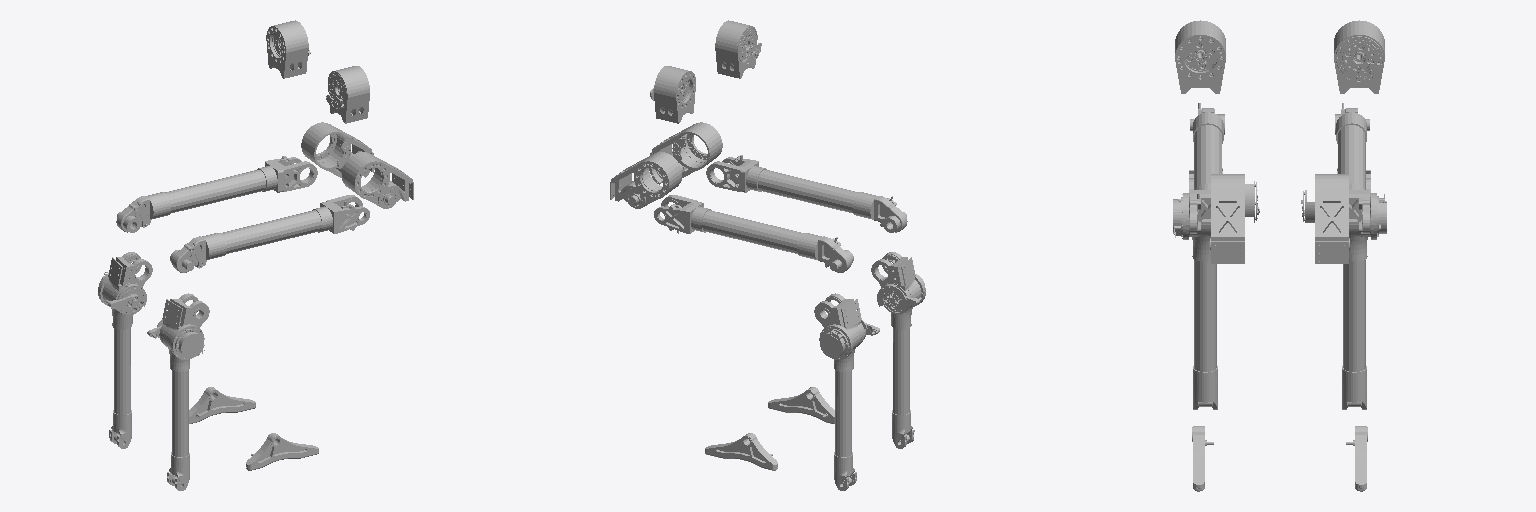
robot.urdf — cassia:
<?xml version="1.0" encoding="utf-8"?>
<!-- This URDF was automatically created by SolidWorks to URDF Exporter! Originally created by [author] ([email redacted]) 
     Commit Version: 1.5.1-0-g916b5db  Build Version: 1.5.7152.31018
     For more information, please see http://wiki.ros.org/sw_urdf_exporter -->
<robot
  name="cassia">
  <link
    name="pelvis">
    <inertial>
      <origin
        xyz="0.012573 4.0034E-05 -0.016772"
        rpy="0 0 0" />
      <mass
        value="6.8222" />
      <inertia
        ixx="0.023762"
        ixy="-2.8373E-06"
        ixz="7.9788E-06"
        iyy="0.014556"
        iyz="-6.5952E-07"
        izz="0.010864" />
    </inertial>
    <visual>
      <origin
        xyz="0 0 0"
        rpy="0 0 0" />
      <geometry>
        <mesh
          filename="package://meshes/base_link.STL" />
      </geometry>
      <material
        name="">
        <color
          rgba="0.86667 0.9098 1 1" />
      </material>
    </visual>
    <collision>
      <origin
        xyz="0 0 0"
        rpy="0 0 0" />
      <geometry>
        <mesh
          filename="package://meshes/base_link.STL" />
      </geometry>
    </collision>
  </link>
  <link
    name="vectorNav">
    <inertial>
      <origin
        xyz="0 0 0"
        rpy="0 0 0" />
      <mass
        value="0.001" />
      <inertia
        ixx="1.6667E-08"
        ixy="-1.8525E-24"
        ixz="1.301E-24"
        iyy="1.6667E-08"
        iyz="5.5145E-25"
        izz="1.6667E-08" />
    </inertial>
    <visual>
      <origin
        xyz="0 0 0"
        rpy="0 0 0" />
      <geometry>
        <mesh
          filename="package://meshes/imu.STL" />
      </geometry>
      <material
        name="">
        <color
          rgba="0.79608 0.82353 0.93725 1" />
      </material>
    </visual>
    <collision>
      <origin
        xyz="0 0 0"
        rpy="0 0 0" />
      <geometry>
        <mesh
          filename="package://meshes/imu.STL" />
      </geometry>
    </collision>
  </link>
  <joint
    name="pelvis_to_vectorNav"
    type="fixed">
    <origin
      xyz="0.03613 0 0.085"
      rpy="0 0 0" />
    <parent
      link="pelvis" />
    <child
      link="vectorNav" />
    <axis
      xyz="0 0 0" />
  </joint>
  <link
    name="r_hip_roll">
    <inertial>
      <origin
        xyz="-0.020912 6.8667E-05 -0.041993"
        rpy="0 0 0" />
      <mass
        value="2.1005" />
      <inertia
        ixx="0.0019597"
        ixy="1.4958E-06"
        ixz="6.4715E-06"
        iyy="0.0012604"
        iyz="-5.6264E-07"
        izz="0.0012258" />
    </inertial>
    <visual>
      <origin
        xyz="0 0 0"
        rpy="0 0 0" />
      <geometry>
        <mesh
          filename="package://meshes/r_hip_roll.STL" />
      </geometry>
      <material
        name="">
        <color
          rgba="0.75294 0.75294 0.75294 1" />
      </material>
    </visual>
    <collision>
      <origin
        xyz="0 0 0"
        rpy="0 0 0" />
      <geometry>
        <mesh
          filename="package://meshes/r_hip_roll.STL" />
      </geometry>
    </collision>
  </link>
  <joint
    name="hip_abduction_right"
    type="revolute">
    <origin
      xyz="-0.0375 -0.13451 -0.047805"
      rpy="0 1.57079632679 0" />
    <parent
      link="pelvis" />
    <child
      link="r_hip_roll" />
    <axis
      xyz="0 0 -1" />
    <limit
      lower="-0.06829"
      upper="0.34403"
      effort="10"
      velocity="15" />
  </joint>
  <link
    name="r_hip_yaw">
    <inertial>
      <origin
        xyz="0.0036339 -4.7306E-05 -0.050912"
        rpy="0 0 0" />
      <mass
        value="2.4407" />
      <inertia
        ixx="0.002349"
        ixy="-1.5138E-07"
        ixz="-3.6883E-05"
        iyy="0.001698"
        iyz="-2.1966E-06"
        izz="0.0016018" />
    </inertial>
    <visual>
      <origin
        xyz="0 0 0"
        rpy="0 0 0" />
      <geometry>
        <mesh
          filename="package://meshes/r_hip_yaw.STL" />
      </geometry>
      <material
        name="">
        <color
          rgba="0.75294 0.75294 0.75294 1" />
      </material>
    </visual>
    <collision>
      <origin
        xyz="0 0 0"
        rpy="0 0 0" />
      <geometry>
        <mesh
          filename="package://meshes/r_hip_yaw.STL" />
      </geometry>
    </collision>
  </link>
  <joint
    name="hip_rotation_right"
    type="revolute">
    <origin
      xyz="0.0375 0 -0.043"
      rpy="-1.57079632679 0 1.57079632679" />
    <parent
      link="r_hip_roll" />
    <child
      link="r_hip_yaw" />
    <axis
      xyz="0 0 1" />
    <limit
      lower="-0.681196"
      upper="0.44797"
      effort="10"
      velocity="15" />
  </joint>
  <link
    name="r_thigh">
    <inertial>
      <origin
        xyz="0.068264 0.047753 0.059312"
        rpy="0 0 0" />
      <mass
        value="5.2139" />
      <inertia
        ixx="0.0042918"
        ixy="-0.001101"
        ixz="1.2857E-05"
        iyy="0.005094"
        iyz="9.3226E-06"
        izz="0.0079473" />
    </inertial>
    <visual>
      <origin
        xyz="0 0 0"
        rpy="0 0 0" />
      <geometry>
        <mesh
          filename="package://meshes/r_thigh.STL" />
      </geometry>
      <material
        name="">
        <color
          rgba="0.75294 0.75294 0.75294 1" />
      </material>
    </visual>
    <collision>
      <origin
        xyz="0 0 0"
        rpy="0 0 0" />
      <geometry>
        <mesh
          filename="package://meshes/r_thigh.STL" />
      </geometry>
    </collision>
  </link>
  <joint
    name="hip_flexion_right"
    type="revolute">
    <origin
      xyz="0.0288 0 -0.0555"
      rpy="3.141592653 1.57079632679 0" />
    <parent
      link="r_hip_yaw" />
    <child
      link="r_thigh" />
    <axis
      xyz="0 0 1" />
    <limit
      lower="-0.6"
      upper="1.5"
      effort="10"
      velocity="15" />
  </joint>
  <link
    name="r_knee">
    <inertial>
      <origin
        xyz="0.066542 -0.040229 0.046833"
        rpy="0 0 0" />
      <mass
        value="1.0008" />
      <inertia
        ixx="0.0013462"
        ixy="0.0003601"
        ixz="6.6717E-05"
        iyy="0.0015024"
        iyz="-3.0433E-05"
        izz="0.0022932" />
    </inertial>
    <visual>
      <origin
        xyz="0 0 0"
        rpy="0 0 0" />
      <geometry>
        <mesh
          filename="package://meshes/r_knee.STL" />
      </geometry>
      <material
        name="">
        <color
          rgba="0.75294 0.75294 0.75294 1" />
      </material>
    </visual>
    <collision>
      <origin
        xyz="0 0 0"
        rpy="0 0 0" />
      <geometry>
        <mesh
          filename="package://meshes/r_knee.STL" />
      </geometry>
    </collision>
  </link>
  <joint
    name="knee_joint_right"
    type="revolute">
    <origin
      xyz="0.098298 0.068829 -0.0175"
      rpy="0 0 0" />
    <parent
      link="r_thigh" />
    <child
      link="r_knee" />
    <axis
      xyz="0 0 1" />
    <limit
      lower="-1.5"
      upper="1.5"
      effort="10"
      velocity="15" />
  </joint>
  <link
    name="r_shin">
    <inertial>
      <origin
        xyz="0.21191 0.064806 0.012149"
        rpy="0 0 0" />
      <mass
        value="0.79679" />
      <inertia
        ixx="0.0005668"
        ixy="-0.00052033"
        ixz="4.6694E-05"
        iyy="0.0019634"
        iyz="1.5632E-05"
        izz="0.0021956" />
    </inertial>
    <visual>
      <origin
        xyz="0 0 0"
        rpy="0 0 0" />
      <geometry>
        <mesh
          filename="package://meshes/r_shin.STL" />
      </geometry>
      <material
        name="">
        <color
          rgba="0.75294 0.75294 0.75294 1" />
      </material>
    </visual>
    <collision>
      <origin
        xyz="0 0 0"
        rpy="0 0 0" />
      <geometry>
        <mesh
          filename="package://meshes/r_shin.STL" />
      </geometry>
    </collision>
  </link>
  <joint
    name="knee_to_shin_right"
    type="revolute">
    <origin
      xyz="0.062287 -0.045254 0.0332"
      rpy="0 0 -1.57079632679" />
    <parent
      link="r_knee" />
    <child
      link="r_shin" />
    <axis
      xyz="0 0 1" />
    <limit
      lower="-100"
      upper="100"
      effort="0"
      velocity="100" />
  </joint>
  <link
    name="r_tarsus">
    <inertial>
      <origin
        xyz="0.096782 0.020003 0.01265"
        rpy="0 0 0" />
      <mass
        value="2.3874" />
      <inertia
        ixx="0.0017839"
        ixy="-0.001593"
        ixz="6.1454E-05"
        iyy="0.0034434"
        iyz="-9.6814E-06"
        izz="0.0047391" />
    </inertial>
    <visual>
      <origin
        xyz="0 0 0"
        rpy="0 0 0" />
      <geometry>
        <mesh
          filename="package://meshes/r_tarsus.STL" />
      </geometry>
      <material
        name="">
        <color
          rgba="0.75294 0.75294 0.75294 1" />
      </material>
    </visual>
    <collision>
      <origin
        xyz="0 0 0"
        rpy="0 0 0" />
      <geometry>
        <mesh
          filename="package://meshes/r_tarsus.STL" />
      </geometry>
    </collision>
  </link>
  <joint
    name="ankle_joint_right"
    type="revolute">
    <origin
      xyz="0.41244 0.13907 0.0021"
      rpy="0 0 1.57079632679" />
    <parent
      link="r_shin" />
    <child
      link="r_tarsus" />
    <axis
      xyz="0 0 1" />
    <limit
      lower="-100"
      upper="100"
      effort="0"
      velocity="100" />
  </joint>
  <link
    name="r_toe">
    <inertial>
      <origin
        xyz="0.031861 0.013184 -0.00022553"
        rpy="0 0 0" />
      <mass
        value="0.19132" />
      <inertia
        ixx="0.00040578"
        ixy="-1.8063E-05"
        ixz="3.5377E-07"
        iyy="4.5759E-05"
        iyz="-2.2569E-06"
        izz="0.00043982" />
    </inertial>
    <visual>
      <origin
        xyz="0 0 0"
        rpy="0 0 0" />
      <geometry>
        <mesh
          filename="package://meshes/r_toe.STL" />
      </geometry>
      <material
        name="">
        <color
          rgba="0.75294 0.75294 0.75294 1" />
      </material>
    </visual>
    <collision>
      <origin
        xyz="0 0 0"
        rpy="0 0 0" />
      <geometry>
        <mesh
          filename="package://meshes/r_toe.STL" />
      </geometry>
    </collision>
  </link>
  <joint
    name="toe_joint_right"
    type="revolute">
    <origin
      xyz="0.35711 0.19931 0.0138"
      rpy="0 0 0" />
    <parent
      link="r_tarsus" />
    <child
      link="r_toe" />
    <axis
      xyz="0 0 1" />
    <limit
      lower="-0.4821"
      upper="0.8929"
      effort="10"
      velocity="15" />
  </joint>
  <link
    name="l_hip_roll">
    <inertial>
      <origin
        xyz="-0.020912 6.8667E-05 -0.041993"
        rpy="0 0 0" />
      <mass
        value="2.1005" />
      <inertia
        ixx="0.0019597"
        ixy="1.4958E-06"
        ixz="6.4715E-06"
        iyy="0.0012604"
        iyz="-5.6264E-07"
        izz="0.0012258" />
    </inertial>
    <visual>
      <origin
        xyz="0 0 0"
        rpy="0 0 0" />
      <geometry>
        <mesh
          filename="package://meshes/l_hip_roll.STL" />
      </geometry>
      <material
        name="">
        <color
          rgba="0.75294 0.75294 0.75294 1" />
      </material>
    </visual>
    <collision>
      <origin
        xyz="0 0 0"
        rpy="0 0 0" />
      <geometry>
        <mesh
          filename="package://meshes/l_hip_roll.STL" />
      </geometry>
    </collision>
  </link>
  <joint
    name="hip_abduction_left"
    type="revolute">
    <origin
      xyz="-0.0375 0.13451 -0.047805"
      rpy="0 1.57079632679 0" />
    <parent
      link="pelvis" />
    <child
      link="l_hip_roll" />
    <axis
      xyz="0 0 -1" />
    <limit
      lower="-0.5944"
      upper="0.1442"
      effort="10"
      velocity="15" />
  </joint>
  <link
    name="l_hip_yaw">
    <inertial>
      <origin
        xyz="-0.0036339 4.7305E-05 -0.050912"
        rpy="0 0 0" />
      <mass
        value="2.4407" />
      <inertia
        ixx="0.002349"
        ixy="-1.5138E-07"
        ixz="3.6883E-05"
        iyy="0.001698"
        iyz="2.1966E-06"
        izz="0.0016018" />
    </inertial>
    <visual>
      <origin
        xyz="0 0 0"
        rpy="0 0 0" />
      <geometry>
        <mesh
          filename="package://meshes/l_hip_yaw.STL" />
      </geometry>
      <material
        name="">
        <color
          rgba="0.75294 0.75294 0.75294 1" />
      </material>
    </visual>
    <collision>
      <origin
        xyz="0 0 0"
        rpy="0 0 0" />
      <geometry>
        <mesh
          filename="package://meshes/l_hip_yaw.STL" />
      </geometry>
    </collision>
  </link>
  <joint
    name="hip_rotation_left"
    type="revolute">
    <origin
      xyz="0.0375 0 -0.043"
      rpy="-1.57079632679 0 1.57079632679" />
    <parent
      link="l_hip_roll" />
    <child
      link="l_hip_yaw" />
    <axis
      xyz="0 0 1" />
    <limit
      lower="-0.4954"
      upper="0.5398"
      effort="10"
      velocity="15" />
  </joint>
  <link
    name="l_thigh">
    <inertial>
      <origin
        xyz="0.068221 0.047815 -0.059312"
        rpy="0 0 0" />
      <mass
        value="5.2139" />
      <inertia
        ixx="0.0042925"
        ixy="-0.0011012"
        ixz="-1.3158E-05"
        iyy="0.0050934"
        iyz="-8.8928E-06"
        izz="0.0079473" />
    </inertial>
    <visual>
      <origin
        xyz="0 0 0"
        rpy="0 0 0" />
      <geometry>
        <mesh
          filename="package://meshes/l_thigh.STL" />
      </geometry>
      <material
        name="">
        <color
          rgba="0.75294 0.75294 0.75294 1" />
      </material>
    </visual>
    <collision>
      <origin
        xyz="0 0 0"
        rpy="0 0 0" />
      <geometry>
        <mesh
          filename="package://meshes/l_thigh.STL" />
      </geometry>
    </collision>
  </link>
  <joint
    name="hip_flexion_left"
    type="revolute">
    <origin
      xyz="-0.0288 0 -0.0555"
      rpy="3.141592653 1.57079632679 0" />
    <parent
      link="l_hip_yaw" />
    <child
      link="l_thigh" />
    <axis
      xyz="0 0 1" />
    <limit
      lower="-0.6"
      upper="1.5"
      effort="10"
      velocity="15" />
  </joint>
  <link
    name="l_knee">
    <inertial>
      <origin
        xyz="0.066659 -0.040634 -0.046843"
        rpy="0 0 0" />
      <mass
        value="1.0008" />
      <inertia
        ixx="0.0013479"
        ixy="0.0003574"
        ixz="-6.6572E-05"
        iyy="0.0015007"
        iyz="2.9928E-05"
        izz="0.0022932" />
    </inertial>
    <visual>
      <origin
        xyz="0 0 0"
        rpy="0 0 0" />
      <geometry>
        <mesh
          filename="package://meshes/l_knee.STL" />
      </geometry>
      <material
        name="">
        <color
          rgba="0.75294 0.75294 0.75294 1" />
      </material>
    </visual>
    <collision>
      <origin
        xyz="0 0 0"
        rpy="0 0 0" />
      <geometry>
        <mesh
          filename="package://meshes/l_knee.STL" />
      </geometry>
    </collision>
  </link>
  <joint
    name="knee_joint_left"
    type="revolute">
    <origin
      xyz="0.098298 0.068829 0.0175"
      rpy="0 0 0" />
    <parent
      link="l_thigh" />
    <child
      link="l_knee" />
    <axis
      xyz="0 0 1" />
    <limit
      lower="-1.5"
      upper="1.4648"
      effort="10"
      velocity="15" />
  </joint>
  <link
    name="l_shin">
    <inertial>
      <origin
        xyz="0.2119 0.064828 -0.011959"
        rpy="0 0 0" />
      <mass
        value="0.79679" />
      <inertia
        ixx="0.00056688"
        ixy="-0.00052046"
        ixz="-4.6685E-05"
        iyy="0.0019634"
        iyz="-1.5623E-05"
        izz="0.0021956" />
    </inertial>
    <visual>
      <origin
        xyz="0 0 0"
        rpy="0 0 0" />
      <geometry>
        <mesh
          filename="package://meshes/l_shin.STL" />
      </geometry>
      <material
        name="">
        <color
          rgba="0.75294 0.75294 0.75294 1" />
      </material>
    </visual>
    <collision>
      <origin
        xyz="0 0 0"
        rpy="0 0 0" />
      <geometry>
        <mesh
          filename="package://meshes/l_shin.STL" />
      </geometry>
    </collision>
  </link>
  <joint
    name="knee_to_shin_left"
    type="revolute">
    <origin
      xyz="0.062287 -0.045254 -0.0332"
      rpy="0 0 -1.57079632679" />
    <parent
      link="l_knee" />
    <child
      link="l_shin" />
    <axis
      xyz="0 0 1" />
    <limit
      lower="-100"
      upper="100"
      effort="0"
      velocity="100" />
  </joint>
  <link
    name="l_tarsus">
    <inertial>
      <origin
        xyz="0.096792 0.019976 -0.012657"
        rpy="0 0 0" />
      <mass
        value="2.385" />
      <inertia
        ixx="0.0017842"
        ixy="-0.0015921"
        ixz="-6.1579E-05"
        iyy="0.003443"
        iyz="9.323E-06"
        izz="0.0047391" />
    </inertial>
    <visual>
      <origin
        xyz="0 0 0"
        rpy="0 0 0" />
      <geometry>
        <mesh
          filename="package://meshes/l_tarsus.STL" />
      </geometry>
      <material
        name="">
        <color
          rgba="0.75294 0.75294 0.75294 1" />
      </material>
    </visual>
    <collision>
      <origin
        xyz="0 0 0"
        rpy="0 0 0" />
      <geometry>
        <mesh
          filename="package://meshes/l_tarsus.STL" />
      </geometry>
    </collision>
  </link>
  <joint
    name="ankle_joint_left"
    type="revolute">
    <origin
      xyz="0.41244 0.13907 -0.0021"
      rpy="0 0 1.57079632679" />
    <parent
      link="l_shin" />
    <child
      link="l_tarsus" />
    <axis
      xyz="0 0 1" />
    <limit
      lower="-100"
      upper="100"
      effort="0"
      velocity="100" />
  </joint>
  <link
    name="l_toe">
    <inertial>
      <origin
        xyz="0.03649 0.014972 0.00016156"
        rpy="0 0 0" />
      <mass
        value="0.095046" />
      <inertia
        ixx="0.00021432"
        ixy="-7.1945E-06"
        ixz="-1.2589E-07"
        iyy="1.7806E-05"
        iyz="8.0273E-07"
        izz="0.00022603" />
    </inertial>
    <visual>
      <origin
        xyz="0 0 0"
        rpy="0 0 0" />
      <geometry>
        <mesh
          filename="package://meshes/l_toe.STL" />
      </geometry>
      <material
        name="">
        <color
          rgba="0.75294 0.75294 0.75294 1" />
      </material>
    </visual>
    <collision>
      <origin
        xyz="0 0 0"
        rpy="0 0 0" />
      <geometry>
        <mesh
          filename="package://meshes/l_toe.STL" />
      </geometry>
    </collision>
  </link>
  <joint
    name="toe_joint_left"
    type="revolute">
    <origin
      xyz="0.35711 0.19931 -0.014"
      rpy="0 0 0" />
    <parent
      link="l_tarsus" />
    <child
      link="l_toe" />
    <axis
      xyz="0 0 1" />
    <limit
      lower="-0.4154"
      upper="0.7695"
      effort="10"
      velocity="15" />
  </joint>
  <transmission name="hip_abduction_trans_left" type="transmission_interface/SimpleTransmission">
    <joint name="hip_abduction_left"/>
    <actuator name="hip_abduction_motor_left"/>
    <motorInertia>0.000061</motorInertia>
    <mechanicalReduction>50</mechanicalReduction>
  </transmission>
  <transmission name="hip_rotation_trans_left" type="transmission_interface/SimpleTransmission">
    <joint name="hip_rotation_left"/>
    <actuator name="hip_rotation_motor_left"/>
    <motorInertia>0.000061</motorInertia>
    <mechanicalReduction>50</mechanicalReduction>
  </transmission>
  <transmission name="hip_flexion_trans_left" type="transmission_interface/SimpleTransmission">
    <joint name="hip_flexion_left"/>
    <actuator name="hip_flexion_motor_left"/>
    <motorInertia>0.000365</motorInertia>
    <mechanicalReduction>37</mechanicalReduction>
  </transmission>
  <transmission name="knee_joint_trans_left" type="transmission_interface/SimpleTransmission">
    <joint name="knee_joint_left"/>
    <actuator name="knee_joint_motor_left"/>
    <motorInertia>0.000365</motorInertia>
    <mechanicalReduction>37</mechanicalReduction>
  </transmission>
  <transmission name="toe_joint_trans_left" type="transmission_interface/SimpleTransmission">
    <joint name="toe_joint_left"/>
    <actuator name="toe_joint_motor_left"/>
    <motorInertia>0.0000049</motorInertia>
    <mechanicalReduction>50</mechanicalReduction>
  </transmission>
  <transmission name="hip_abduction_trans_right" type="transmission_interface/SimpleTransmission">
    <joint name="hip_abduction_right"/>
    <actuator name="hip_abduction_motor_right"/>
    <motorInertia>0.000061</motorInertia>
    <mechanicalReduction>50</mechanicalReduction>
  </transmission>
  <transmission name="hip_rotation_trans_right" type="transmission_interface/SimpleTransmission">
    <joint name="hip_rotation_right"/>
    <actuator name="hip_rotation_motor_right"/>
    <motorInertia>0.000061</motorInertia>
    <mechanicalReduction>50</mechanicalReduction>
  </transmission>
  <transmission name="hip_flexion_trans_right" type="transmission_interface/SimpleTransmission">
    <joint name="hip_flexion_right"/>
    <actuator name="hip_flexion_motor_right"/>
    <motorInertia>0.000365</motorInertia>
    <mechanicalReduction>37</mechanicalReduction>
  </transmission>
  <transmission name="knee_joint_trans_right" type="transmission_interface/SimpleTransmission">
    <joint name="knee_joint_right"/>
    <actuator name="knee_joint_motor_right"/>
    <motorInertia>0.000365</motorInertia>
    <mechanicalReduction>37</mechanicalReduction>
  </transmission>
  <transmission name="toe_joint_trans_right" type="transmission_interface/SimpleTransmission">
    <joint name="toe_joint_right"/>
    <actuator name="toe_joint_motor_right"/>
    <motorInertia>0.0000049</motorInertia>
    <mechanicalReduction>50</mechanicalReduction>
  </transmission>
</robot>

--- What the picture shows (computed from the rendered views, not written in the file) ---
The picture shows the robot from 3 angles, left to right: view 1: azimuth 30°, elevation 25°; view 2: azimuth 150°, elevation 25°; view 3: azimuth 270°, elevation 25°; orthographic projection.
Robot: cassia — 16 links, 15 joints (14 revolute, 1 fixed); root link pelvis; default pose: every joint at zero.
Links seen in each view (by area): view 1: r_shin, l_shin, r_tarsus, l_tarsus, r_knee, r_hip_yaw, l_hip_yaw, l_knee, r_toe, l_toe; view 2: l_shin, r_shin, l_tarsus, r_tarsus, l_knee, r_hip_yaw, l_hip_yaw, r_knee, l_toe, r_toe; view 3: r_tarsus, l_tarsus, r_knee, l_knee, r_hip_yaw, l_hip_yaw, r_shin, l_shin, r_toe, l_toe.
Link boxes in pixels (<box>): r_shin: <box>170,195,369,272</box>; l_shin: <box>116,156,317,232</box>; r_tarsus: <box>147,293,209,490</box>; l_tarsus: <box>98,252,152,448</box>; r_knee: <box>342,151,413,208</box>; r_hip_yaw: <box>326,66,369,123</box>; l_hip_yaw: <box>266,20,310,78</box>; l_knee: <box>301,122,373,177</box>; r_toe: <box>246,433,318,470</box>; l_toe: <box>189,387,255,423</box>; l_shin: <box>654,195,853,272</box>; r_shin: <box>706,155,907,232</box>; l_tarsus: <box>814,293,879,490</box>; r_tarsus: <box>871,252,925,448</box>; l_knee: <box>610,152,681,208</box>; r_hip_yaw: <box>715,20,761,78</box>; l_hip_yaw: <box>650,66,695,123</box>; r_knee: <box>650,122,722,177</box>; l_toe: <box>705,433,777,470</box>; r_toe: <box>768,387,834,423</box>; r_tarsus: <box>1173,168,1222,409</box>; l_tarsus: <box>1337,168,1386,409</box>; r_knee: <box>1210,174,1259,263</box>; l_knee: <box>1301,174,1349,263</box>; r_hip_yaw: <box>1175,20,1225,93</box>; l_hip_yaw: <box>1334,20,1384,93</box>; r_shin: <box>1190,103,1224,233</box>; l_shin: <box>1335,103,1369,233</box>; r_toe: <box>1192,426,1213,491</box>; l_toe: <box>1346,426,1367,491</box>.
Size in the robot's own frame: 0.6566 by 0.362 by 0.9127 metres.
10 mesh visuals loaded from 16 distinct referenced files (10 binary STL); not drawn: 6 (reference not matched to a file when rendering).
